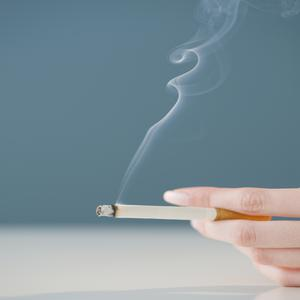cigarette: (96, 203, 272, 226)
